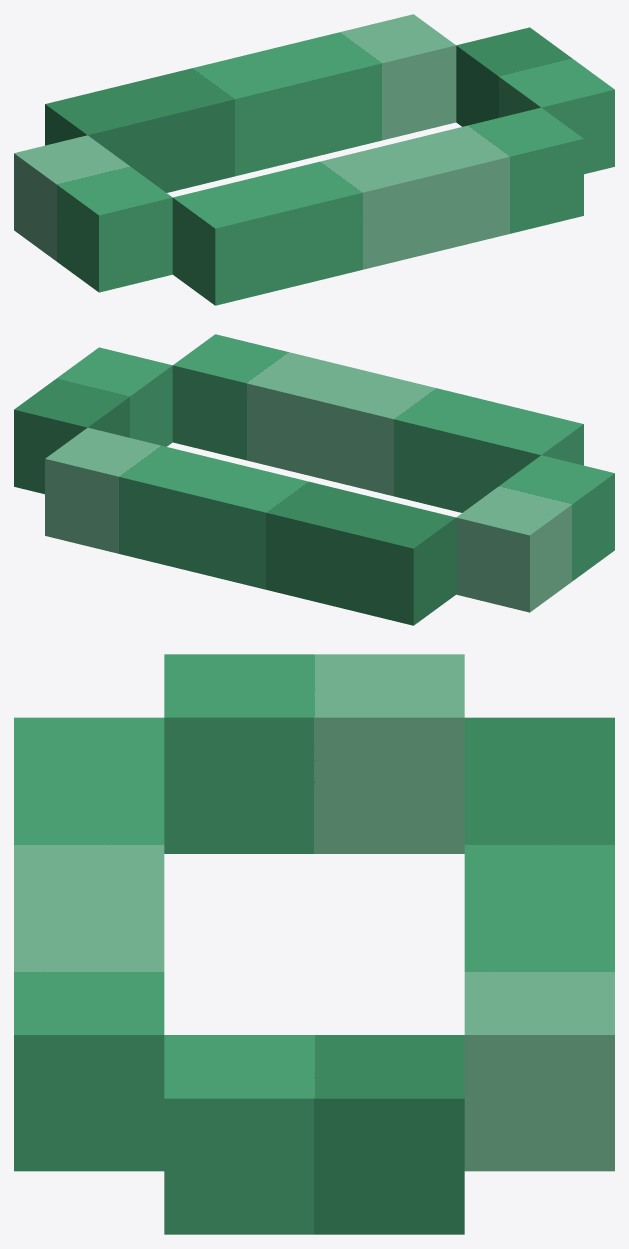
Rendered from vinecirlce2.fbx.
3 renders of one model, top to bottom at view 1: azimuth 30°, elevation 25°; view 2: azimuth 150°, elevation 25°; view 3: azimuth 270°, elevation 25°, orthographic. The views are drawn at different scales.
Parts seen in each view (by area): view 1: vinecircle2; view 2: vinecircle2; view 3: vinecircle2.
Boxes of the visible parts, x1,y1,x2,y2 form: vinecircle2: (14, 14, 614, 305); vinecircle2: (14, 334, 614, 625); vinecircle2: (14, 654, 614, 1234).
Bounding box in the file's own units: 7 × 1 × 4.
Materials: 1 (1 with a texture image).
